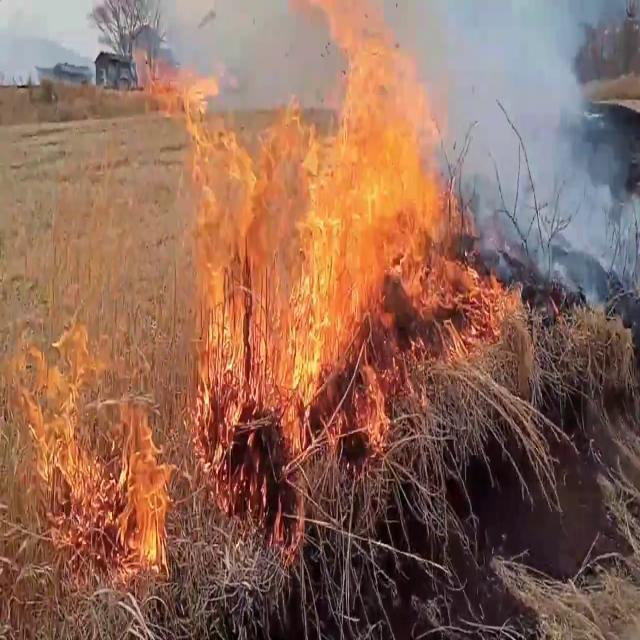Fire: (182, 2, 516, 458), (30, 284, 180, 602)
Smoke: (416, 0, 640, 279)
